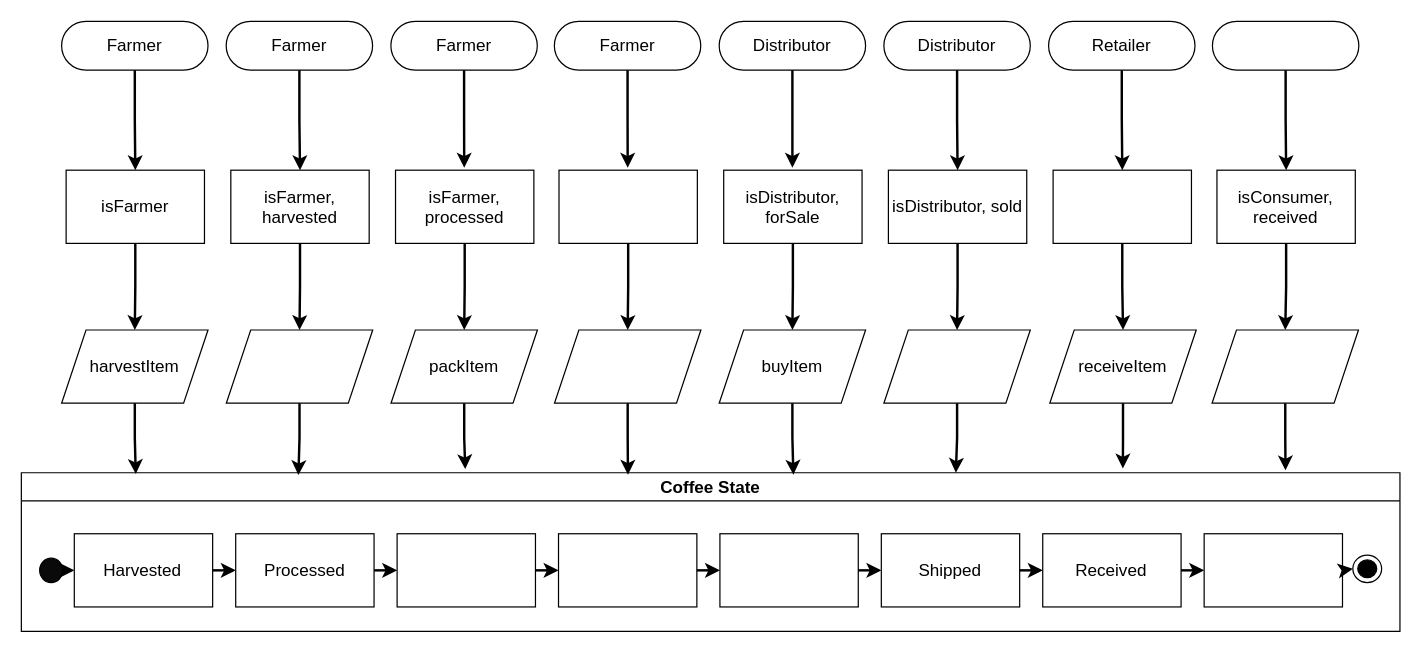
The diagram is 1421 pixels wide and 653 high, and some of its shapes have lost their labels. The shapes that lost their labels are listed below. From the top down, each one's box as (x1, y1, x2, y2) in pixels, then its label:
(1211, 20, 1359, 70): Consumer
(558, 169, 697, 243): isFarmer, packed
(1052, 169, 1191, 243): isRetailer, shipped
(225, 329, 373, 403): processItem
(553, 329, 701, 403): sellItem
(883, 329, 1030, 403): shipItem
(1211, 329, 1358, 403): purchaseItem
(396, 533, 535, 607): Packed
(557, 533, 697, 607): ForSale
(719, 533, 858, 607): Sold
(1203, 533, 1342, 607): Purchased
